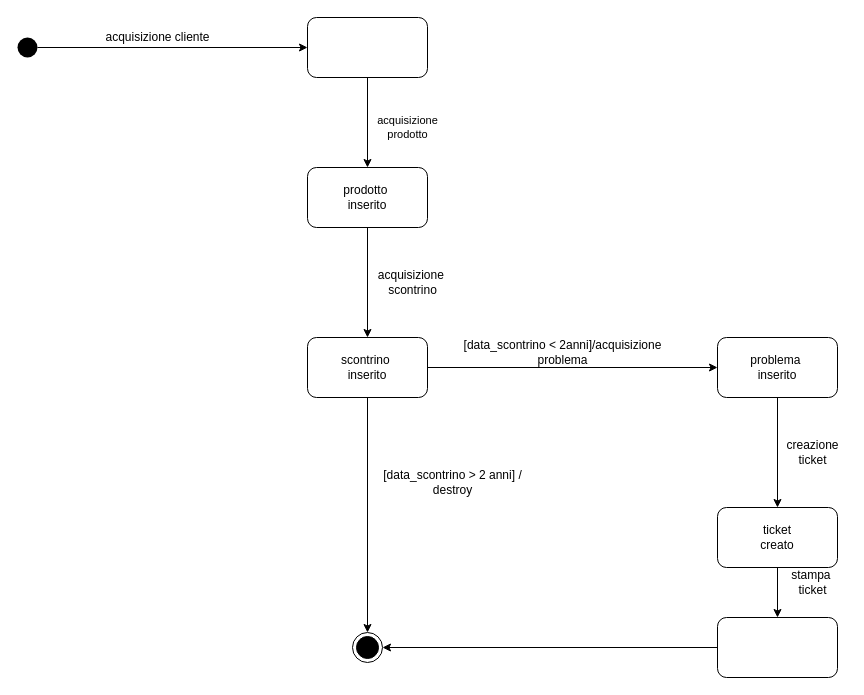
Some shapes in this 864 by 695 pixel diagram are drawn without their labels. Here are the shapes that lost their labels. From the top down, the centre of each, then its label:
(x=367, y=47): cliente inserito
(x=777, y=647): ticket stampato
